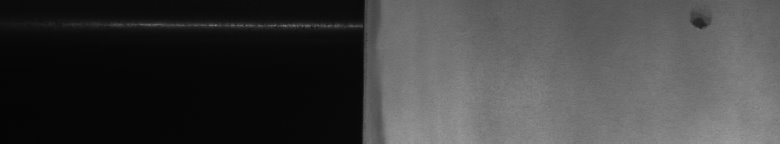fi: (685, 4, 712, 36)
